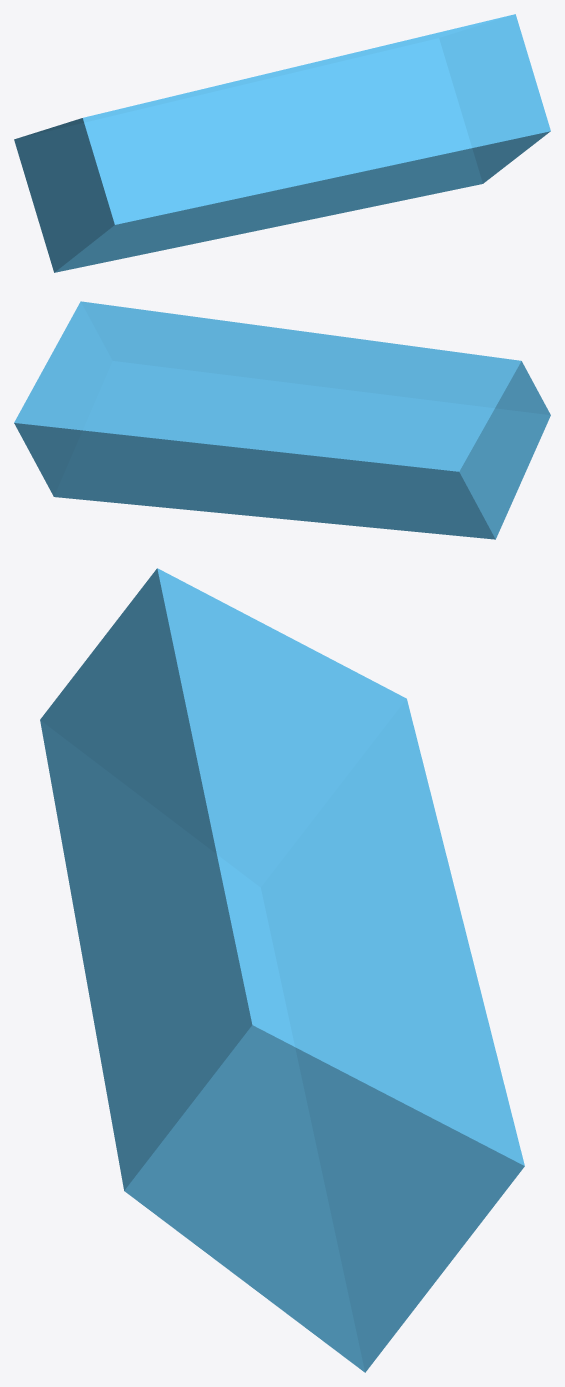
File: Event_421278790_HErechit_16.fbx
The picture shows the model from 3 angles, top to bottom: view 1: azimuth 30°, elevation 25°; view 2: azimuth 150°, elevation 25°; view 3: azimuth 270°, elevation 25°; orthographic projection. The views are drawn at different scales.
Parts seen in each view (by area): view 1: Model; view 2: Model; view 3: Model.
Part boxes in pixels (bbox=[...]): Model: bbox=[14, 14, 550, 272]; Model: bbox=[14, 301, 550, 539]; Model: bbox=[40, 568, 524, 1372].
Size of the model in its own units: 0.9527 by 0.4354 by 0.4795.
